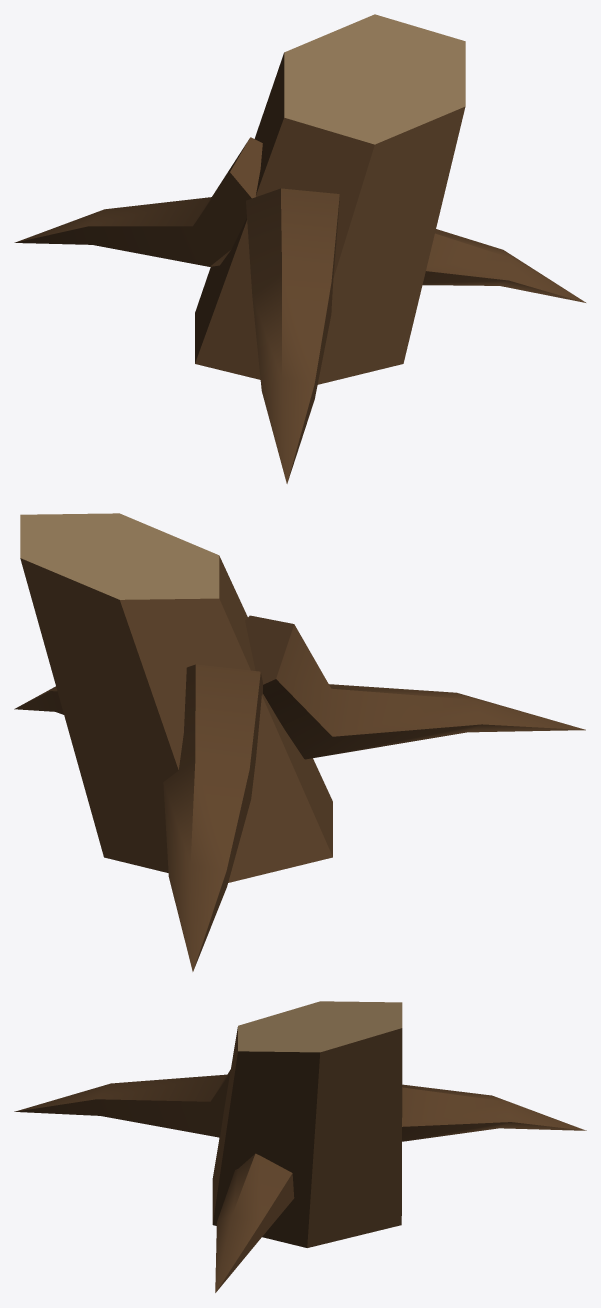
Rendered from HawthornStump.fbx.
3 views of the same model, one above another, from view 1: azimuth 30°, elevation 25°; view 2: azimuth 150°, elevation 25°; view 3: azimuth 270°, elevation 25° (orthographic). The views are drawn at different scales.
Visible parts, largest first — view 1: HawthornStump; view 2: HawthornStump; view 3: HawthornStump.
Boxes of the visible parts, box(x1,y1,x2,y2) form: HawthornStump: box(14, 14, 585, 483); HawthornStump: box(14, 513, 585, 971); HawthornStump: box(14, 1001, 586, 1292).
Size of the model in its own units: 0.5891 by 0.3487 by 0.7846.
